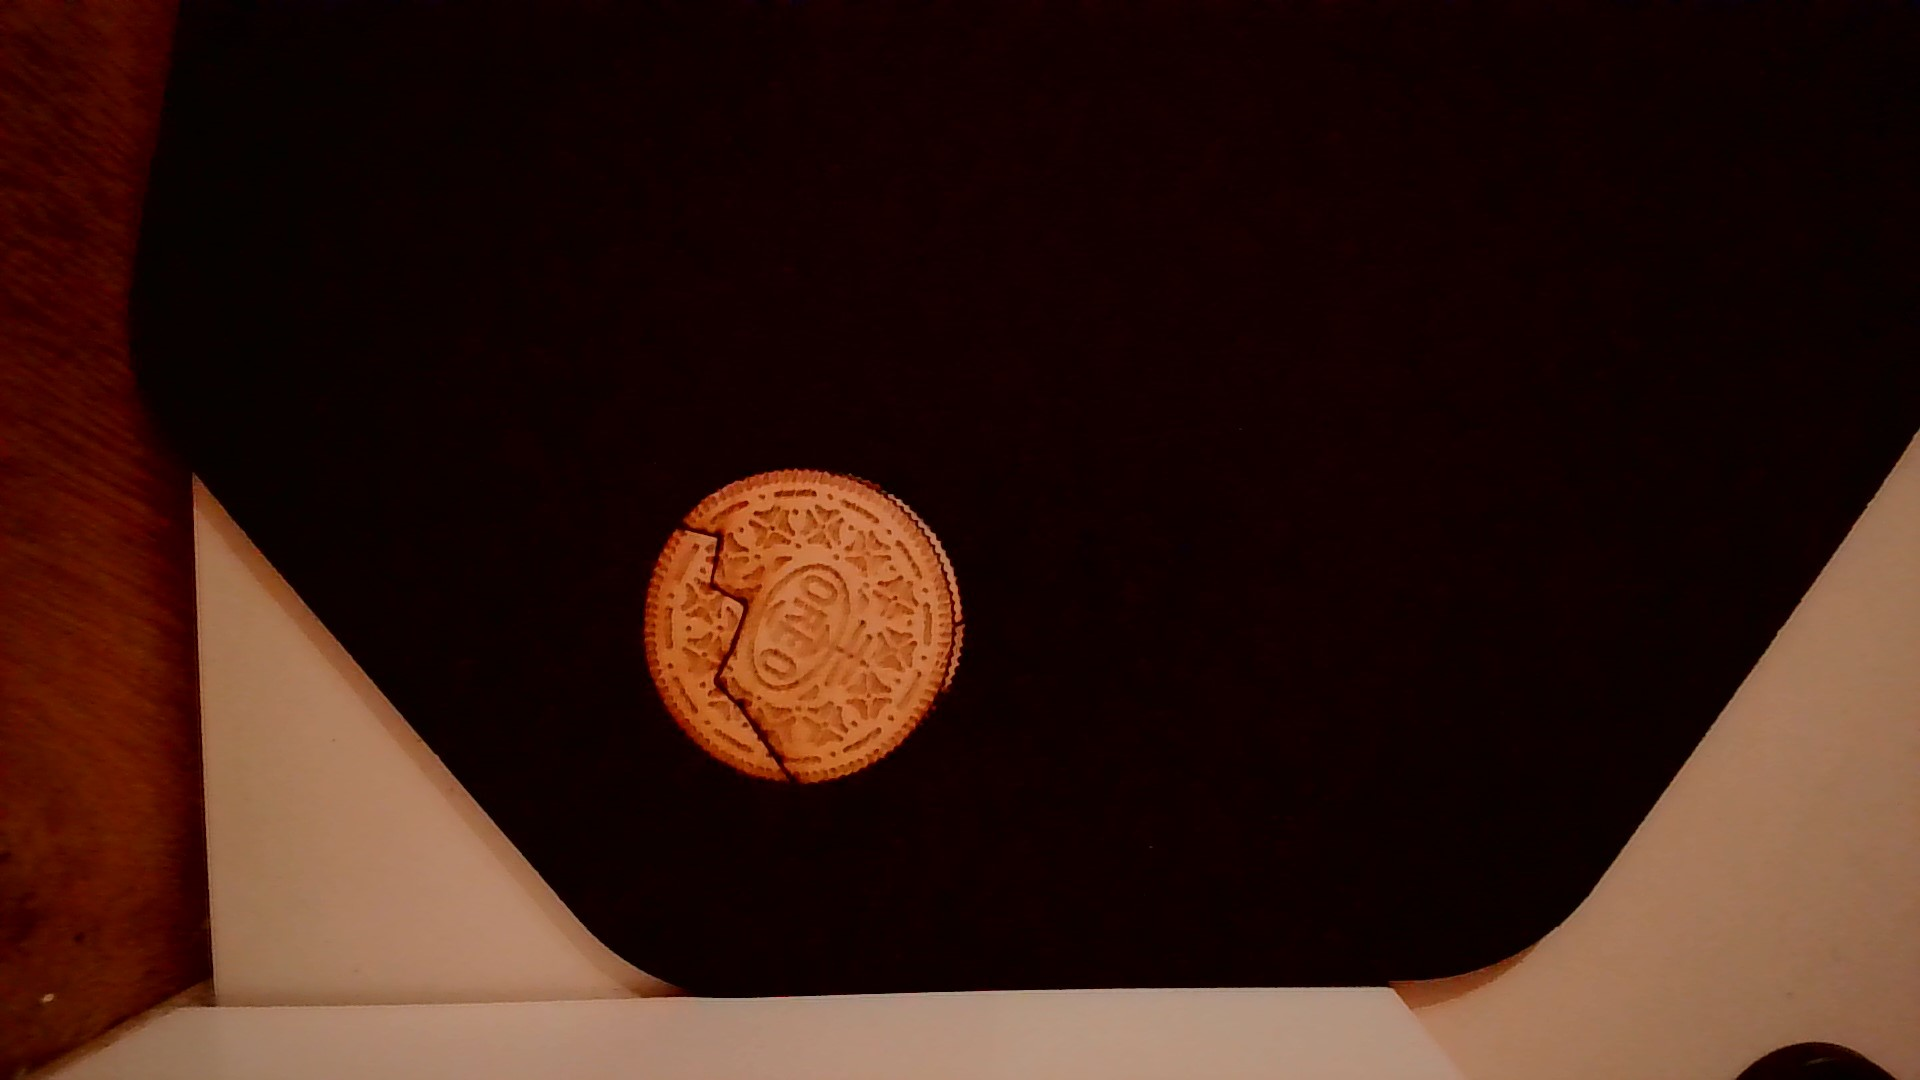Fissure: (665, 514, 806, 793)
Oréo: (630, 462, 976, 793)
